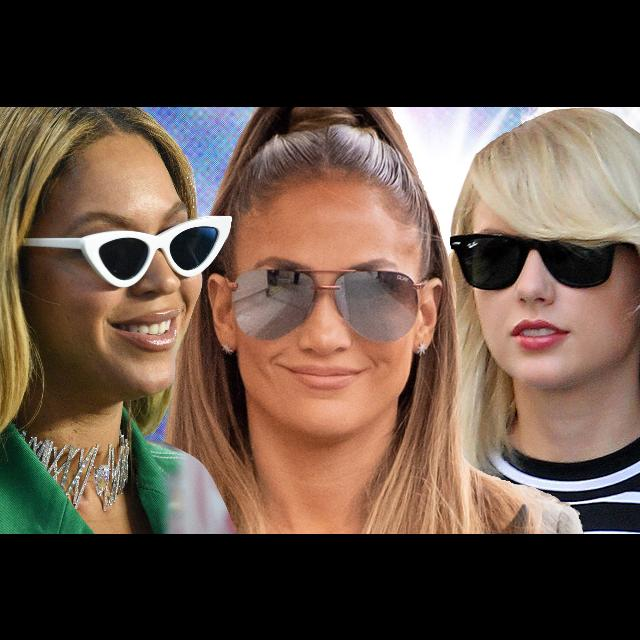Sunglasses: (228, 268, 434, 342), (18, 215, 226, 283), (448, 232, 622, 290)
